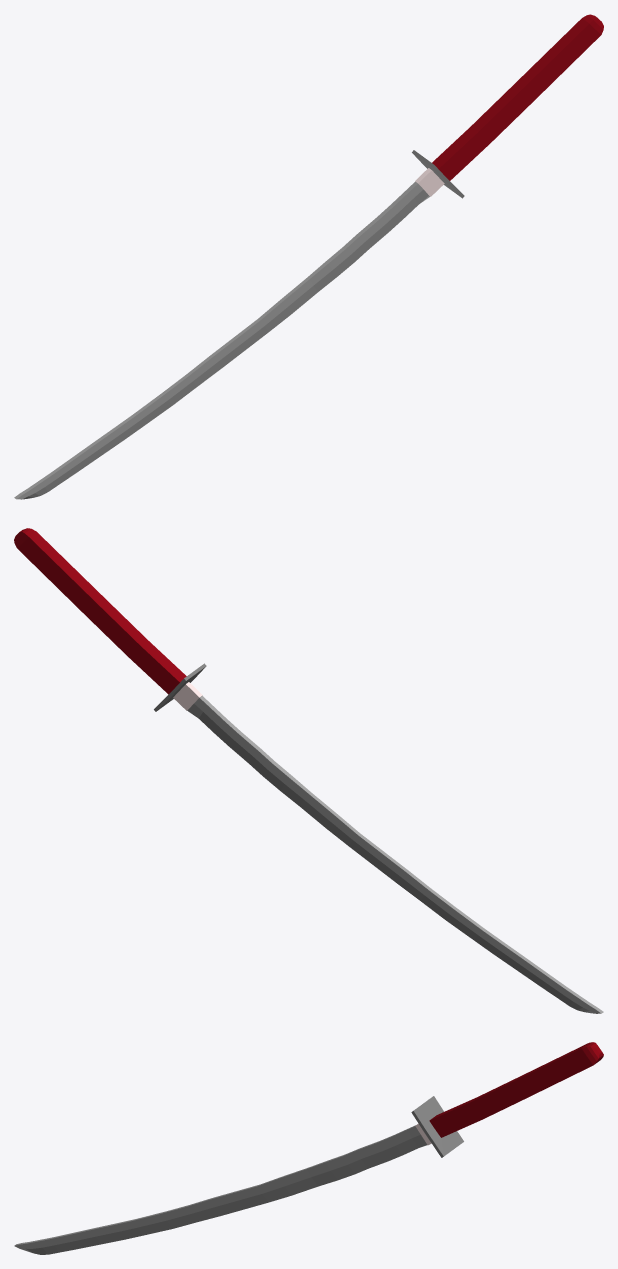
The model's file is Katana.fbx.
3 views of the same model, one above another, from view 1: azimuth 30°, elevation 25°; view 2: azimuth 150°, elevation 25°; view 3: azimuth 330°, elevation 25° (orthographic).
Parts seen in each view (by area): view 1: Cube; view 2: Cube; view 3: Cube.
Boxes of the visible parts, x1,y1,x2,y2 form: Cube: (14, 14, 603, 499); Cube: (14, 528, 603, 1013); Cube: (14, 1042, 603, 1254).
Bounding box in the file's own units: 1208 × 680 × 73.1.
